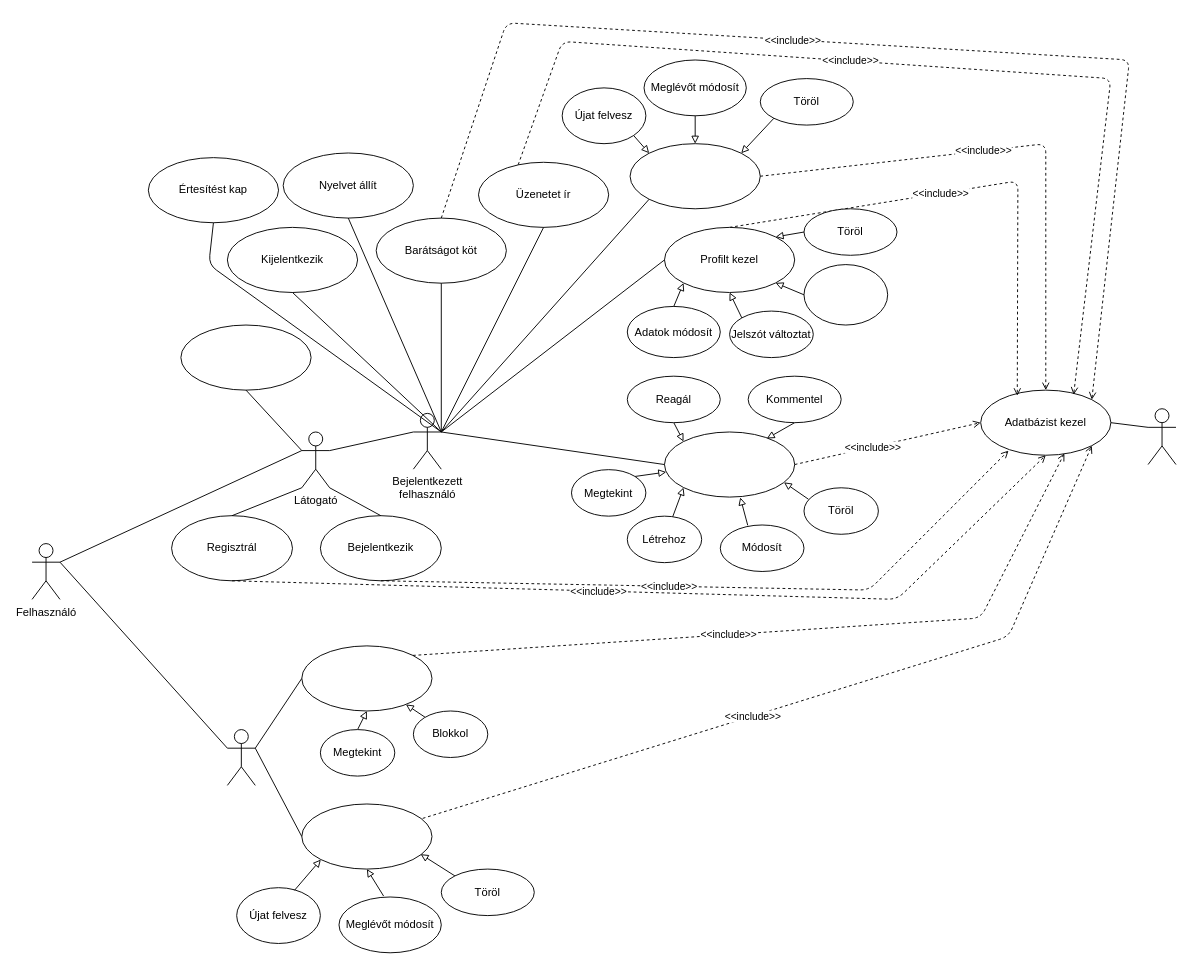
Image size: 1202x969. Some labels were removed from this diagram. Each missing label, with the centre of its shape:
"Adatbázis" belongs at point (1161, 436).
"Admin" belongs at point (240, 757).
"Edzést kezel" belongs at point (694, 176).
"Edzéstípusokat kezel" belongs at point (366, 836).
"Felhasználokat kezel" belongs at point (366, 678).
"Oldal leírást megtekint" belongs at point (245, 357).
"Posztot kezel" belongs at point (729, 464).
"Profilképet módosít" belongs at point (845, 294).
